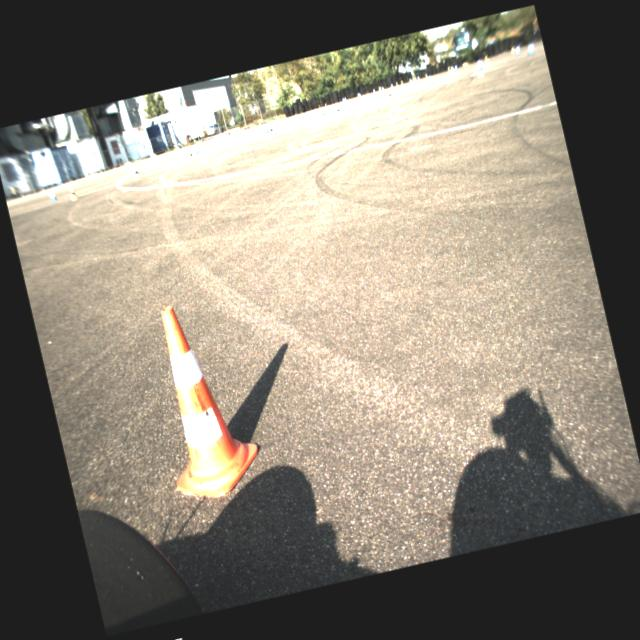blue_cone: (49, 190, 57, 202), (193, 146, 200, 154), (320, 106, 326, 115), (427, 74, 432, 84), (263, 124, 269, 132), (526, 46, 532, 54), (378, 90, 382, 98), (381, 85, 385, 92), (408, 78, 412, 85), (450, 66, 454, 73), (514, 47, 518, 54), (416, 75, 420, 81), (390, 83, 393, 88)
large_orange_cone: (136, 293, 268, 506)
yellow_cone: (131, 167, 140, 180), (69, 187, 77, 200), (476, 66, 484, 78), (386, 88, 393, 100), (187, 150, 194, 161), (268, 125, 274, 136), (336, 106, 342, 116), (446, 67, 451, 73), (509, 48, 514, 54), (484, 56, 488, 63), (395, 81, 399, 87), (400, 80, 404, 86), (424, 73, 428, 79)
